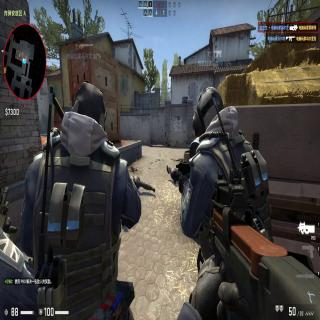CT-Head: (68, 80, 105, 140), (190, 85, 228, 142)
